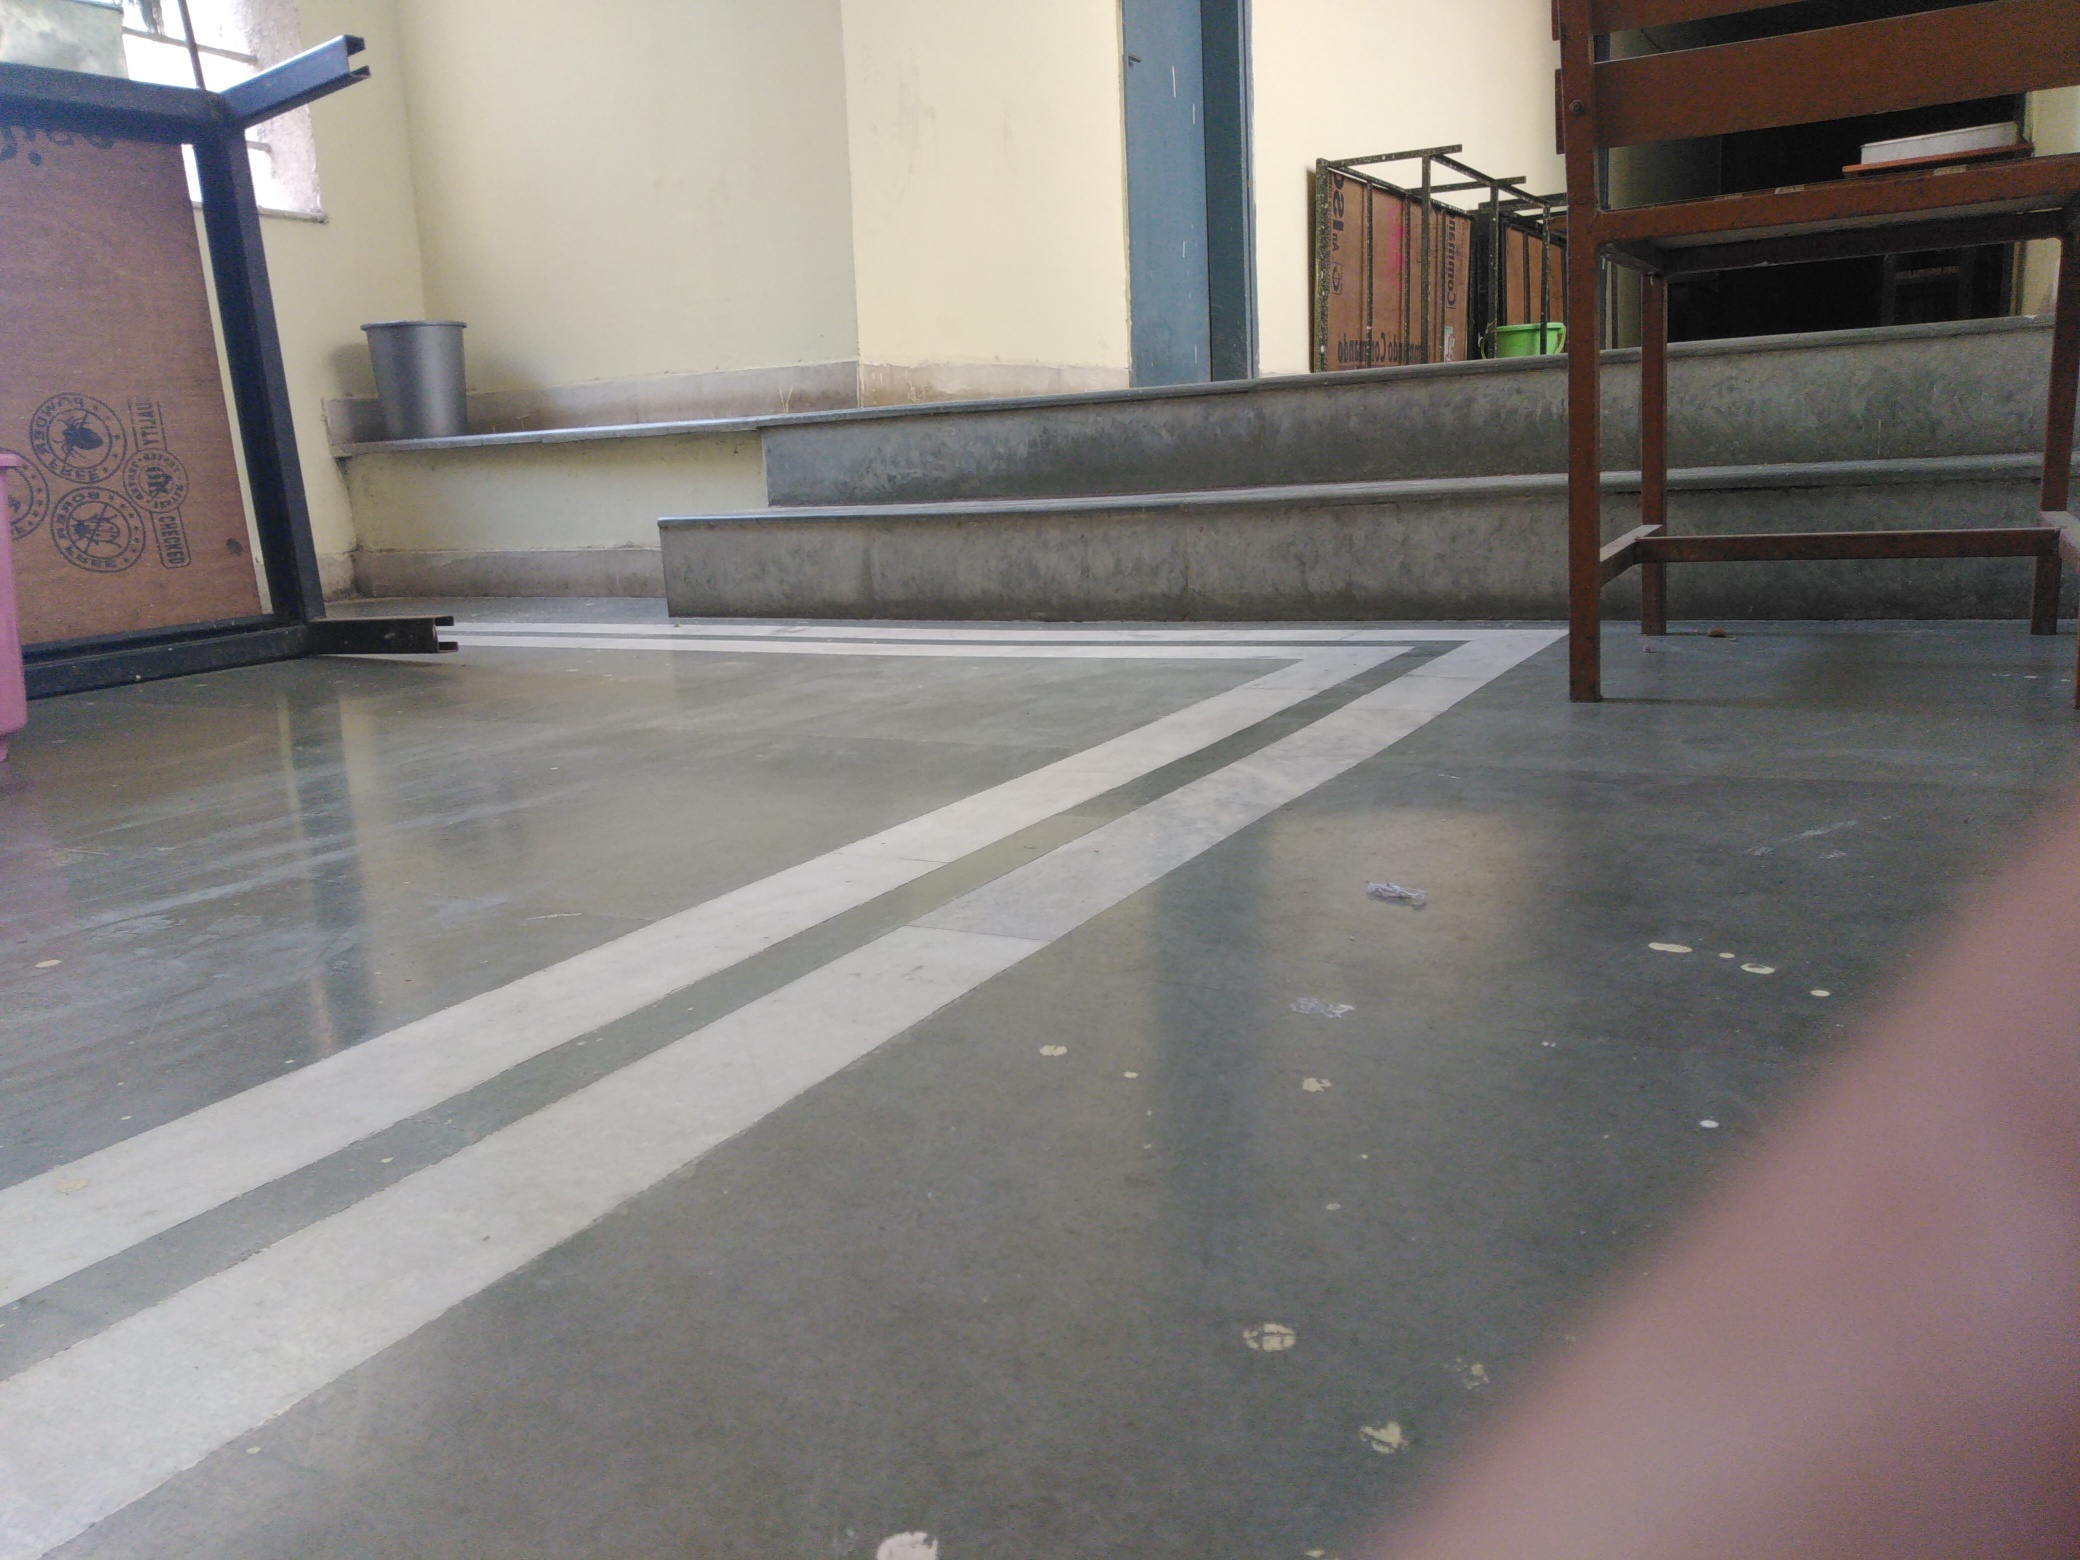stairs_up: (685, 344, 1567, 611)
